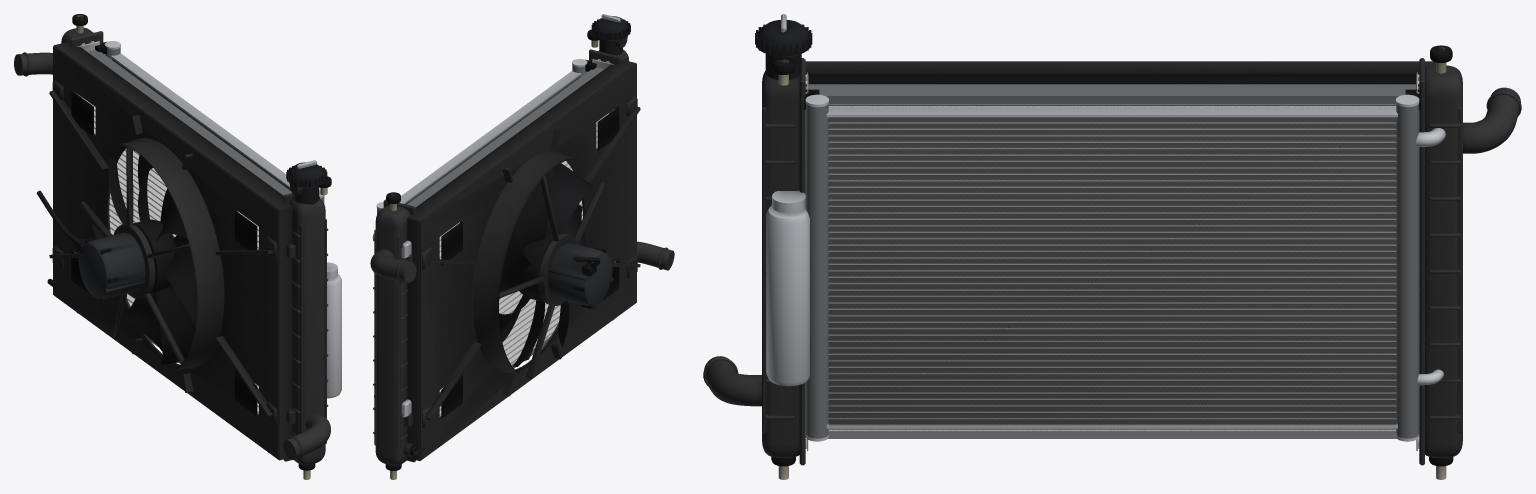
File: radiator-hi-v1.glb
3 views of the same model, side by side, from view 1: azimuth 30°, elevation 25°; view 2: azimuth 150°, elevation 25°; view 3: azimuth 270°, elevation 25° (orthographic). The views are drawn at different scales.
Visible parts, largest first — view 1: shroud_geo, tank_R_geo, fan_geo, condenser_geo, core_geo, fan_motor_geo, neck_lower_geo, cap_geo, neck_upper_geo, tank_L_geo; view 2: shroud_geo, tank_L_geo, fan_geo, core_geo, fan_motor_geo, condenser_geo, neck_upper_geo, cap_geo, neck_lower_geo, tank_R_geo, mount_L_geo; view 3: condenser_geo, core_geo, tank_L_geo, shroud_geo, tank_R_geo, neck_upper_geo, neck_lower_geo, cap_geo.
Boxes of the visible parts, bbox=[...] form: shroud_geo: bbox=[49, 42, 292, 460]; tank_R_geo: bbox=[283, 183, 328, 465]; fan_geo: bbox=[91, 154, 196, 364]; condenser_geo: bbox=[95, 41, 341, 398]; core_geo: bbox=[75, 41, 291, 413]; fan_motor_geo: bbox=[36, 190, 145, 301]; neck_lower_geo: bbox=[283, 413, 330, 459]; cap_geo: bbox=[286, 160, 327, 187]; neck_upper_geo: bbox=[14, 52, 52, 76]; tank_L_geo: bbox=[61, 27, 103, 252]; shroud_geo: bbox=[407, 60, 640, 460]; tank_L_geo: bbox=[373, 199, 415, 465]; fan_geo: bbox=[499, 163, 593, 367]; core_geo: bbox=[407, 59, 615, 416]; fan_motor_geo: bbox=[548, 243, 613, 308]; condenser_geo: bbox=[372, 59, 596, 417]; neck_upper_geo: bbox=[370, 249, 416, 282]; cap_geo: bbox=[591, 14, 630, 40]; neck_lower_geo: bbox=[637, 241, 674, 270]; tank_R_geo: bbox=[589, 36, 628, 261]; mount_L_geo: bbox=[385, 192, 401, 479]; condenser_geo: bbox=[766, 89, 1445, 441]; core_geo: bbox=[805, 72, 1419, 451]; tank_L_geo: bbox=[1419, 58, 1462, 465]; shroud_geo: bbox=[805, 61, 1435, 89]; tank_R_geo: bbox=[762, 53, 805, 465]; neck_upper_geo: bbox=[1463, 87, 1521, 153]; neck_lower_geo: bbox=[703, 356, 761, 406]; cap_geo: bbox=[755, 14, 812, 56].
Bounding box in the file's own units: 0.2709 × 0.534 × 0.8651.
14 materials, 5 textured.
